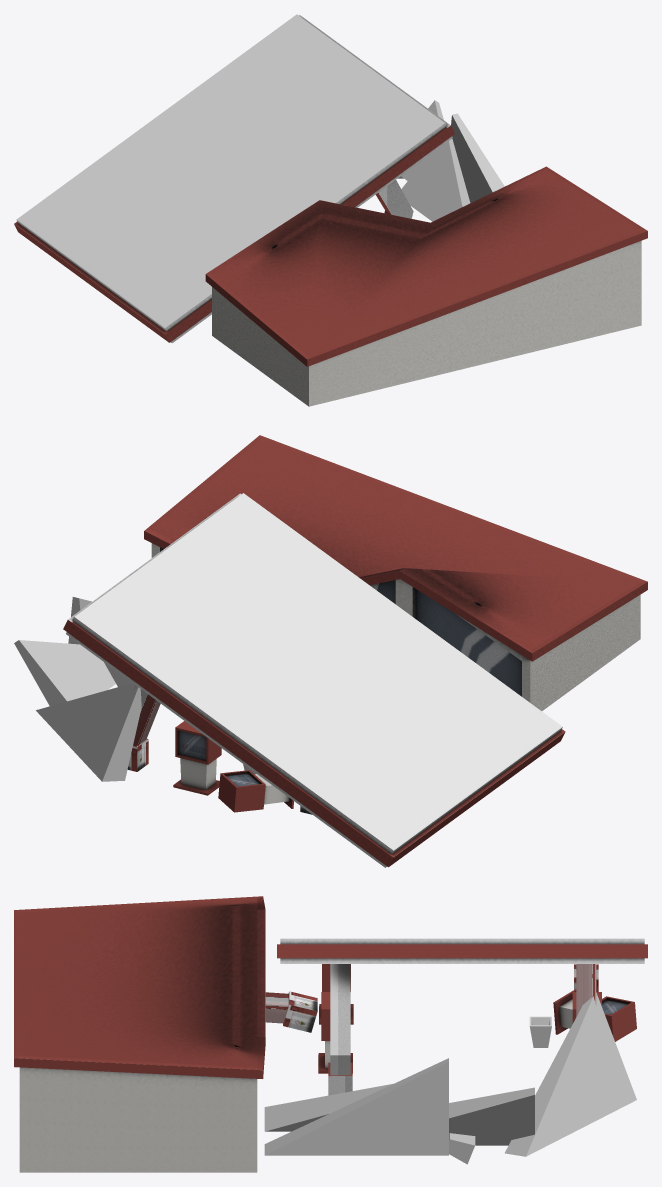
The model's file is gasstation.FBX.
3 views of the same model, one above another, from view 1: azimuth 30°, elevation 25°; view 2: azimuth 150°, elevation 25°; view 3: azimuth 270°, elevation 25° (orthographic). The views are drawn at different scales.
Visible parts, largest first — view 1: Box476, Box487, Box049, Box048, Box036; view 2: Box487, Box476, Box051, Box050, Box490, Box491, Box038; view 3: Box476, Box048, Box487, Box051, Box050, Box036, Box049, Box491, Box035, Box038, Box492, Box045 (+2 smaller).
Part boxes in pixels (x1=…): Box476: x1=205, y1=166, x2=647, y2=406; Box487: x1=14, y1=14, x2=454, y2=343; Box049: x1=401, y1=139, x2=470, y2=221; Box048: x1=451, y1=113, x2=504, y2=202; Box036: x1=375, y1=180, x2=413, y2=218; Box487: x1=63, y1=493, x2=565, y2=867; Box476: x1=144, y1=435, x2=647, y2=710; Box051: x1=36, y1=683, x2=141, y2=781; Box050: x1=14, y1=640, x2=115, y2=706; Box490: x1=173, y1=721, x2=221, y2=795; Box491: x1=218, y1=770, x2=293, y2=812; Box038: x1=127, y1=685, x2=160, y2=771; Box476: x1=14, y1=896, x2=265, y2=1172; Box048: x1=264, y1=1058, x2=448, y2=1155; Box487: x1=277, y1=938, x2=647, y2=963; Box051: x1=505, y1=993, x2=636, y2=1156; Box050: x1=449, y1=1087, x2=534, y2=1145; Box036: x1=328, y1=964, x2=352, y2=1095; Box049: x1=264, y1=1083, x2=393, y2=1131; Box491: x1=553, y1=989, x2=636, y2=1041; Box035: x1=265, y1=991, x2=317, y2=1032; Box038: x1=576, y1=964, x2=596, y2=1016; Box492: x1=318, y1=992, x2=352, y2=1073; Box045: x1=529, y1=1016, x2=551, y2=1047.
Bounding box in the file's own units: 1469 × 570 × 1735.
